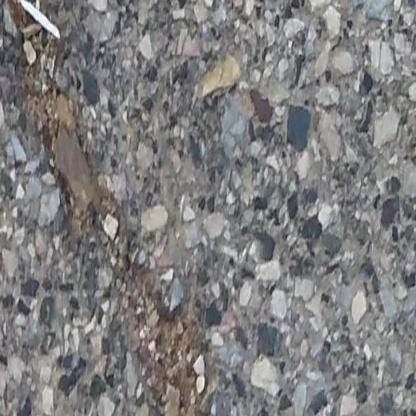Cracks: (5, 0, 219, 416)
